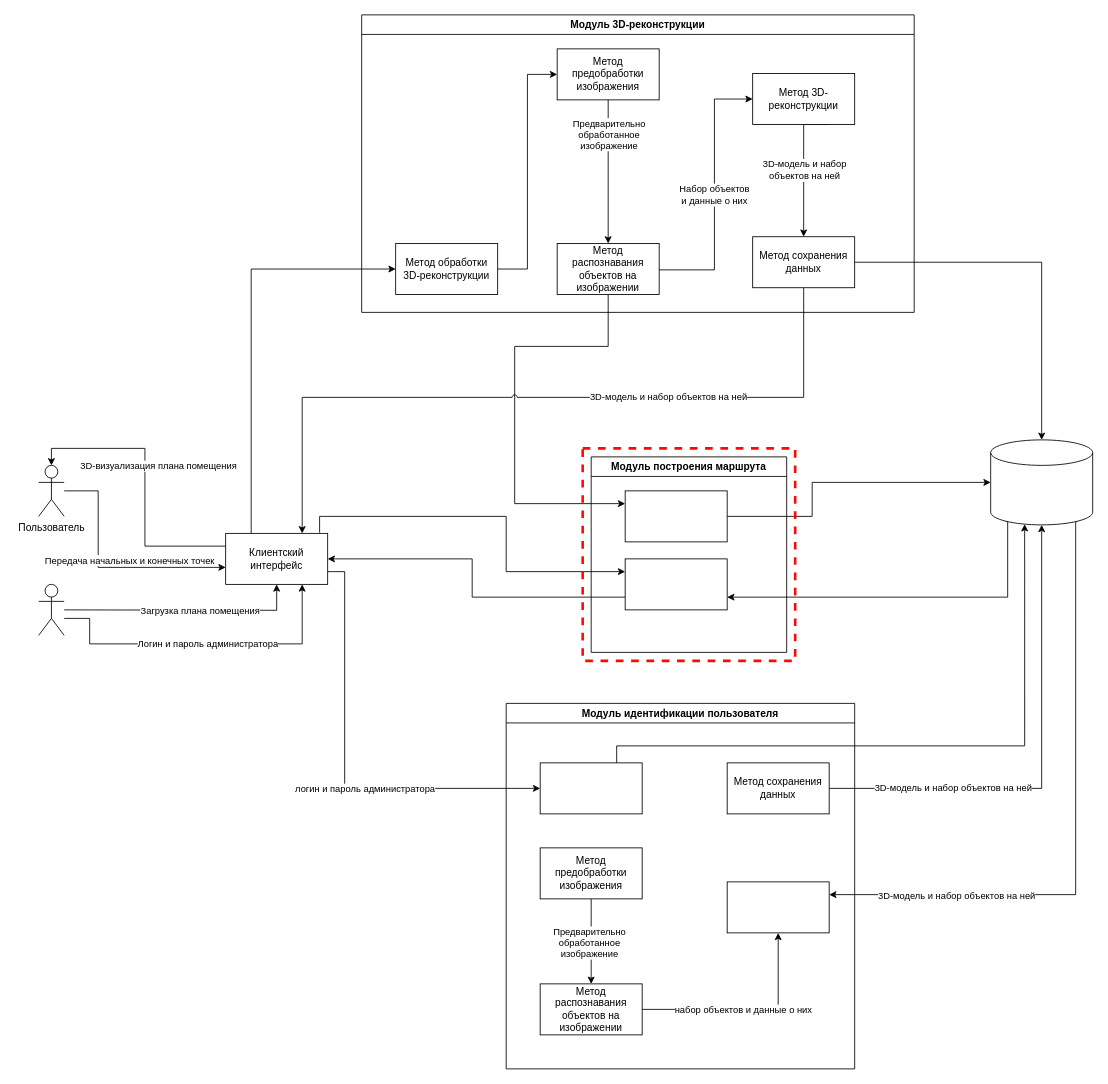
This 1108x1084 diagram has some shape labels left out. Each missing label, with the centre of its shape:
Администратор: the point at 51,609
Метод идентификации пользователя: the point at 777,907
Метод обработки авторизации: the point at 590,788
Метод поиска кратчайшего пути: the point at 675,584
Метод создания навигационного графа: the point at 675,516
Хранилище данных и объектов: the point at 1041,482
